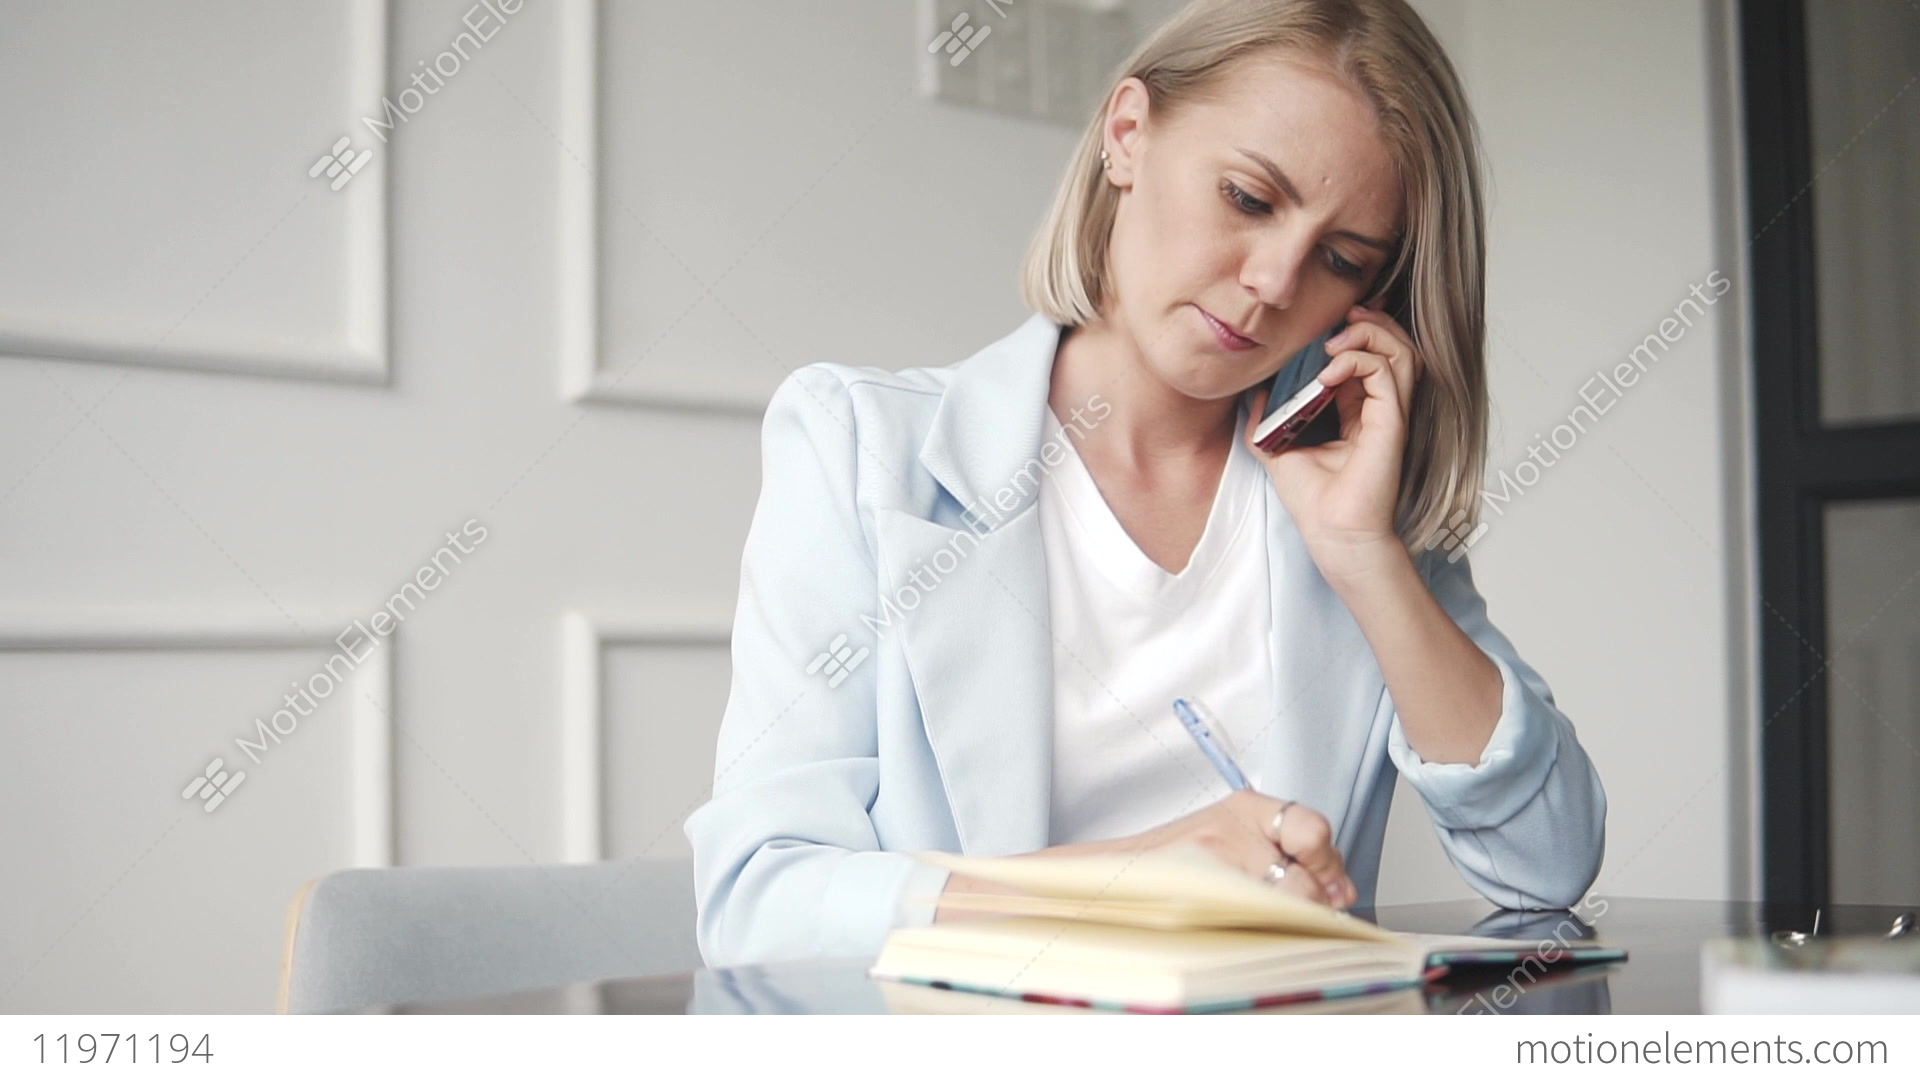phone: (1244, 295, 1424, 485)
talk: (1146, 144, 1456, 549)
